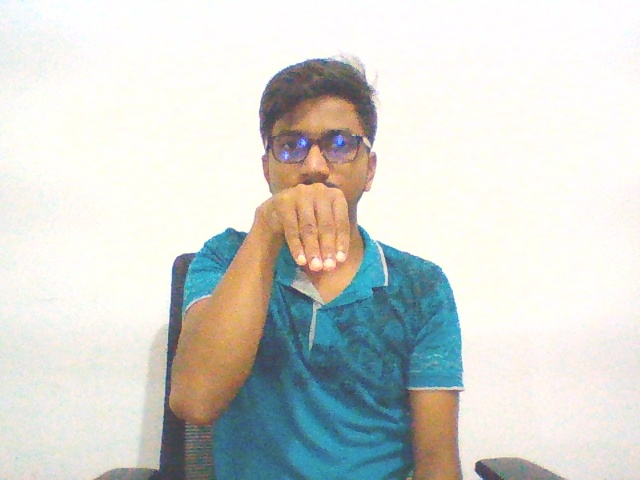Squirrel: (246, 171, 375, 286)
